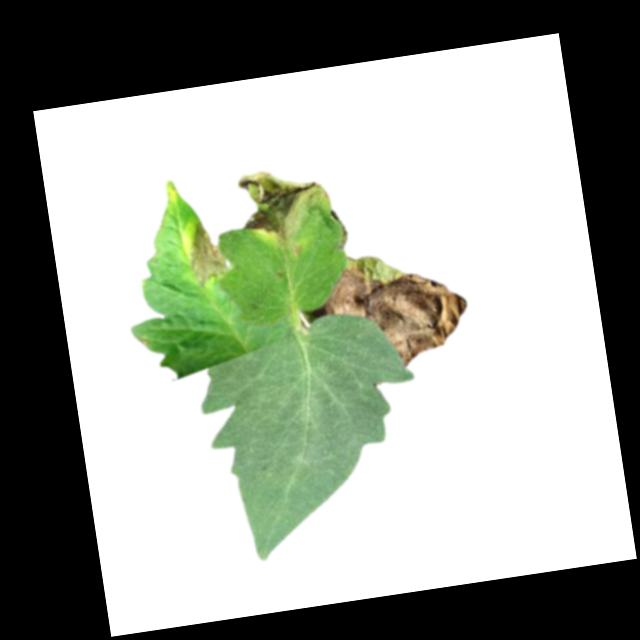Late_blight: (314, 248, 475, 379), (232, 162, 336, 256), (183, 218, 229, 288), (330, 204, 349, 248)
